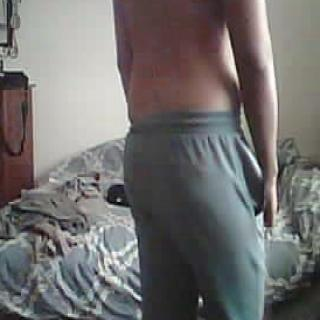Blue Sweatpants: (124, 102, 271, 320)
